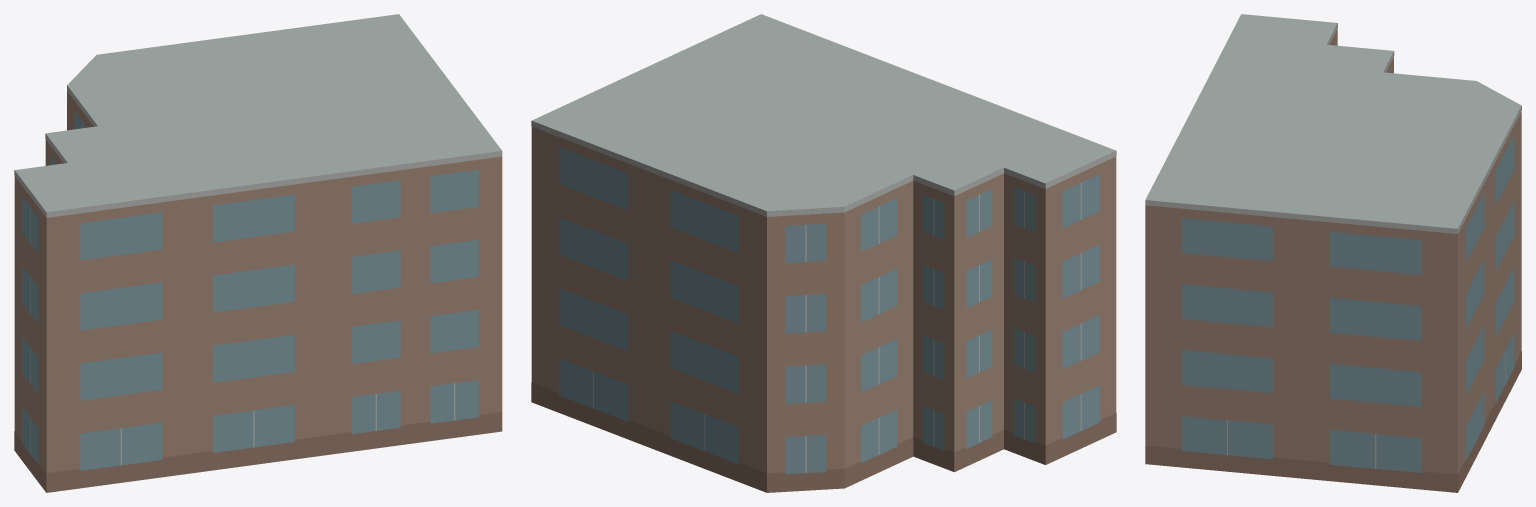
File: residential-985839f9-deee-4b6c-ad95-58e5b2f98ec3.glb
The picture shows the model from 3 angles, left to right: view 1: azimuth 30°, elevation 25°; view 2: azimuth 150°, elevation 25°; view 3: azimuth 270°, elevation 25°; orthographic projection. The views are drawn at different scales.
Visible parts, largest first — view 1: residential-985839f9-deee-4b6c-ad95-58e5b2f98ec3.tmp; view 2: residential-985839f9-deee-4b6c-ad95-58e5b2f98ec3.tmp; view 3: residential-985839f9-deee-4b6c-ad95-58e5b2f98ec3.tmp.
Boxes of the visible parts, x1,y1,x2,y2 form: residential-985839f9-deee-4b6c-ad95-58e5b2f98ec3.tmp: (14,14,502,492); residential-985839f9-deee-4b6c-ad95-58e5b2f98ec3.tmp: (531,14,1116,492); residential-985839f9-deee-4b6c-ad95-58e5b2f98ec3.tmp: (1145,14,1521,492).
Size of the model in its own units: 21.3 by 12.2 by 15.77.
